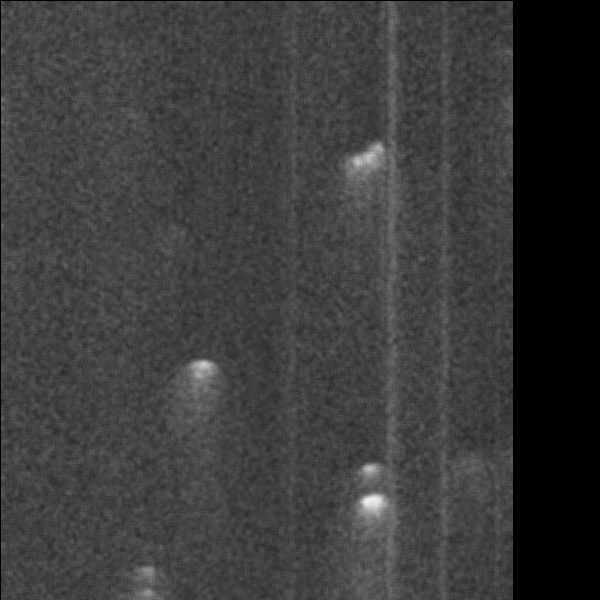spark: (4, 145, 110, 353), (184, 217, 269, 347), (186, 536, 279, 590), (329, 220, 380, 313)
